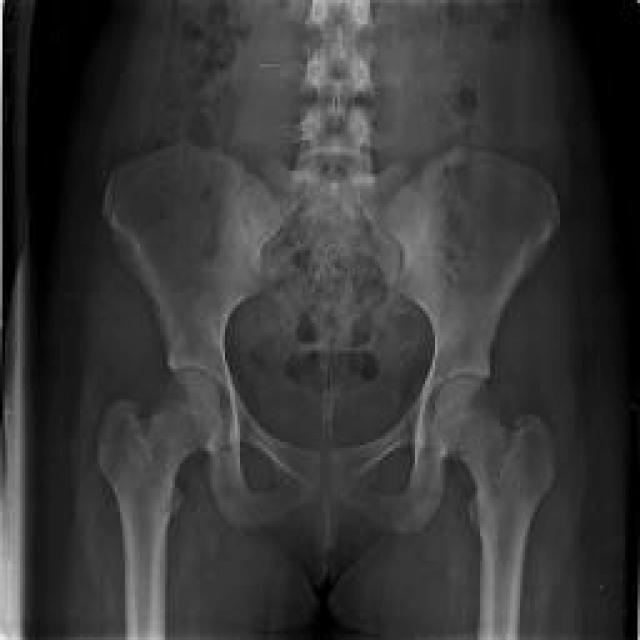normal: (99, 145, 559, 638), (262, 157, 401, 285), (298, 0, 372, 174)
